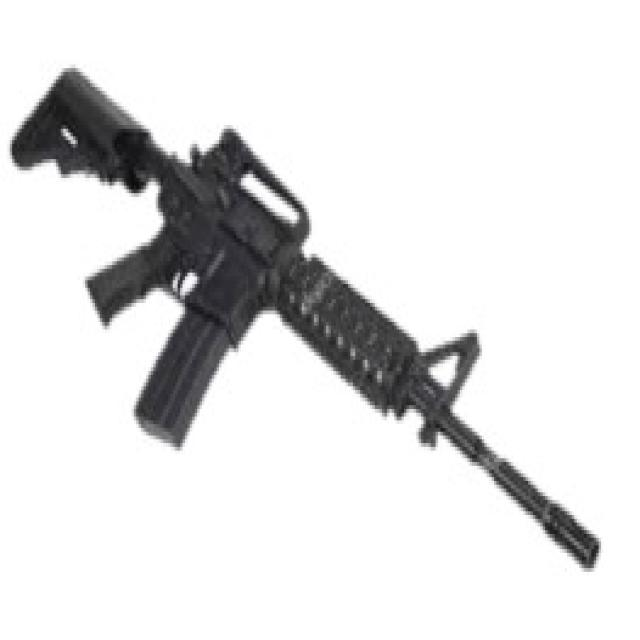rifle: (6, 54, 609, 578)
